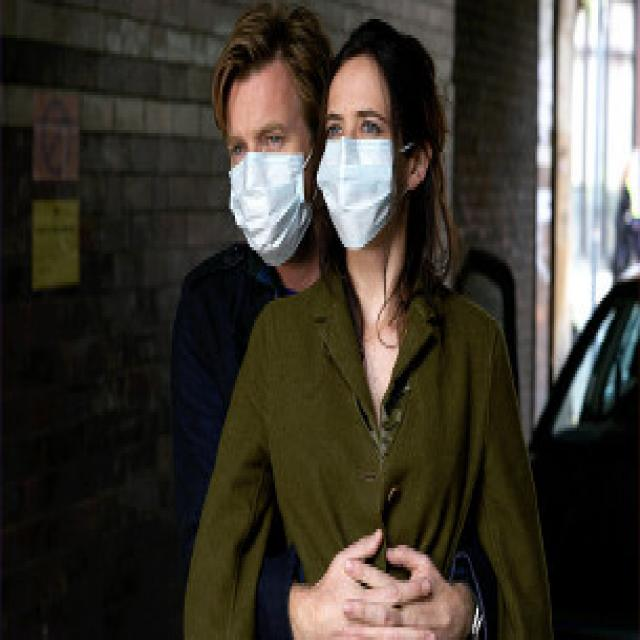mask: (225, 67, 308, 263), (316, 62, 389, 248)
